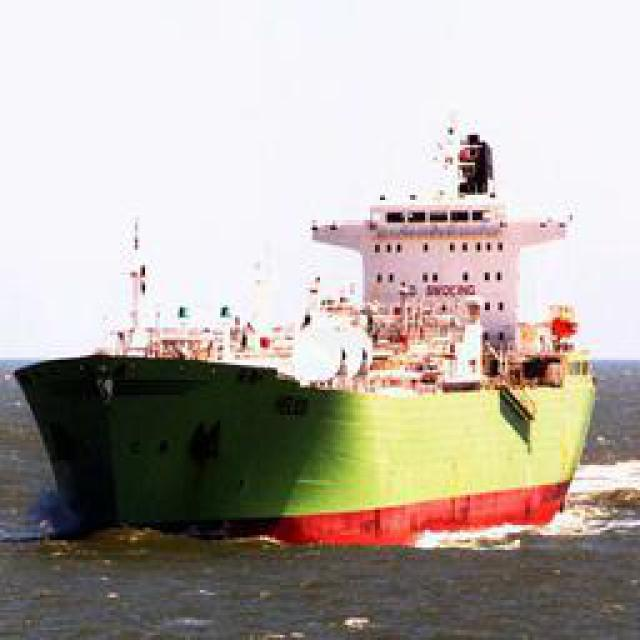Ship: (20, 111, 610, 554)
